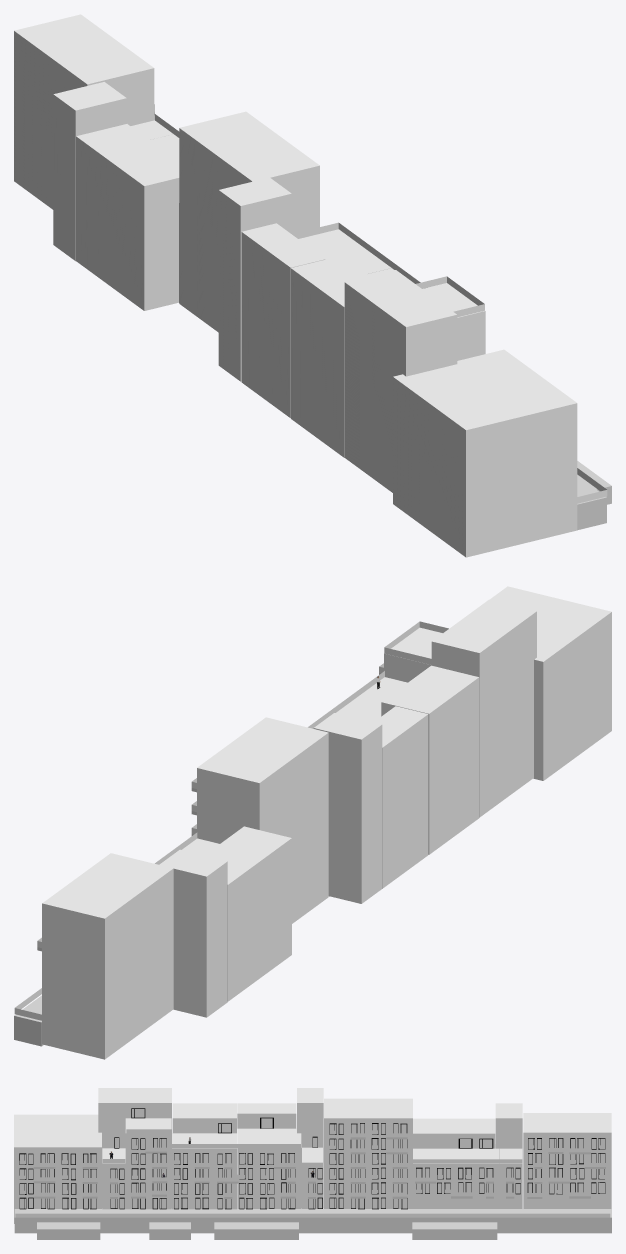
The model's file is vebowag.glb.
3 views of the same model, one above another, from view 1: azimuth 30°, elevation 25°; view 2: azimuth 150°, elevation 25°; view 3: azimuth 270°, elevation 25° (orthographic). The views are drawn at different scales.
Parts seen in each view (by area): view 1: Cube, Cube.012, Cube.001, Cube.010, Cube.015, Cube.006, Cube.007, Cube.004, Cube.013, Cube.002, Cube.008, Cube.016 (+1 smaller); view 2: Cube.015, Cube.010, Cube.001, Cube, Cube.004, Cube.006, Cube.012, Cube.013, Cube.007, Cube.002, Cube.005, Cube.016 (+1 smaller); view 3: Cube.016, Cube.010, Cube.015, Cube, Cube.011, Cube.008, Cube.001, Cube.005, Cube.066, Cube.002, Cube.012, Cube.006 (+13 smaller).
Part boxes in pixels (x1=…): Cube: x1=393, y1=349, x2=577, y2=557; Cube.012: x1=76, y1=124, x2=179, y2=310; Cube.001: x1=344, y1=270, x2=457, y2=492; Cube.010: x1=179, y1=111, x2=319, y2=332; Cube.015: x1=14, y1=14, x2=154, y2=209; Cube.006: x1=291, y1=255, x2=369, y2=457; Cube.007: x1=241, y1=223, x2=325, y2=418; Cube.004: x1=218, y1=177, x2=291, y2=381; Cube.013: x1=53, y1=82, x2=126, y2=261; Cube.002: x1=422, y1=283, x2=485, y2=360; Cube.008: x1=298, y1=229, x2=391, y2=273; Cube.016: x1=577, y1=476, x2=606, y2=530; Cube.015: x1=42, y1=853, x2=173, y2=1059; Cube.010: x1=197, y1=717, x2=328, y2=923; Cube.001: x1=431, y1=599, x2=536, y2=817; Cube: x1=490, y1=586, x2=611, y2=780; Cube.004: x1=313, y1=713, x2=382, y2=903; Cube.006: x1=381, y1=665, x2=479, y2=854; Cube.012: x1=204, y1=826, x2=291, y2=1001; Cube.013: x1=159, y1=849, x2=227, y2=1017; Cube.007: x1=374, y1=706, x2=428, y2=888; Cube.002: x1=384, y1=627, x2=442, y2=682; Cube.005: x1=336, y1=677, x2=407, y2=722; Cube.016: x1=14, y1=995, x2=43, y2=1046; Cube.016: x1=14, y1=1209, x2=611, y2=1233; Cube.010: x1=324, y1=1098, x2=412, y2=1208; Cube.015: x1=523, y1=1113, x2=611, y2=1208; Cube: x1=14, y1=1114, x2=101, y2=1223; Cube.011: x1=412, y1=1144, x2=499, y2=1208; Cube.008: x1=237, y1=1128, x2=301, y2=1208; Cube.001: x1=98, y1=1088, x2=171, y2=1208; Cube.005: x1=172, y1=1133, x2=236, y2=1209; Cube.066: x1=15, y1=1213, x2=610, y2=1217; Cube.002: x1=125, y1=1118, x2=171, y2=1209; Cube.012: x1=413, y1=1118, x2=495, y2=1148; Cube.006: x1=172, y1=1103, x2=236, y2=1133.
Size of what is drawn, in the model's own units: 0.9568 by 0.9841 by 4.99.
Materials: 86 (4 with a texture image).
